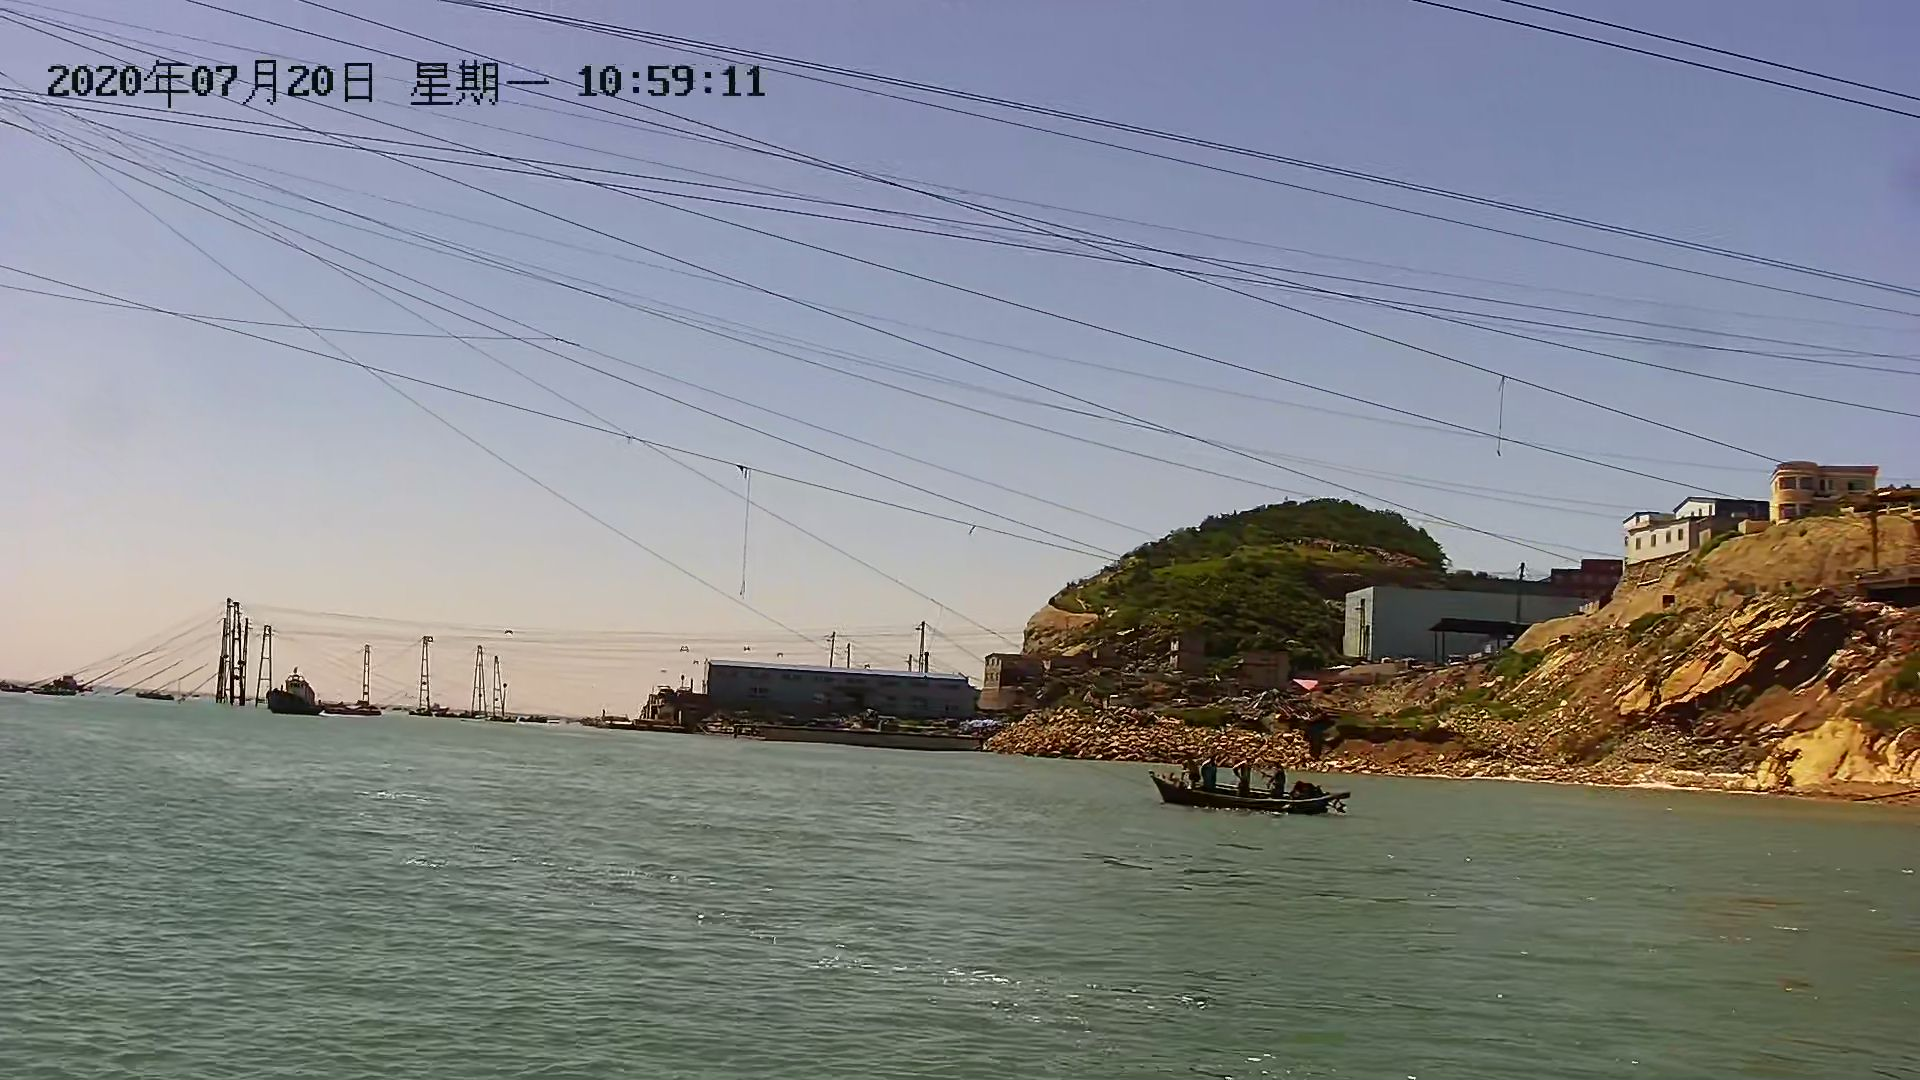boat: (1145, 768, 1347, 818)
person: (1231, 749, 1258, 798), (1264, 753, 1287, 803), (1199, 751, 1221, 801), (1180, 750, 1202, 796)
ship: (263, 667, 324, 721)
